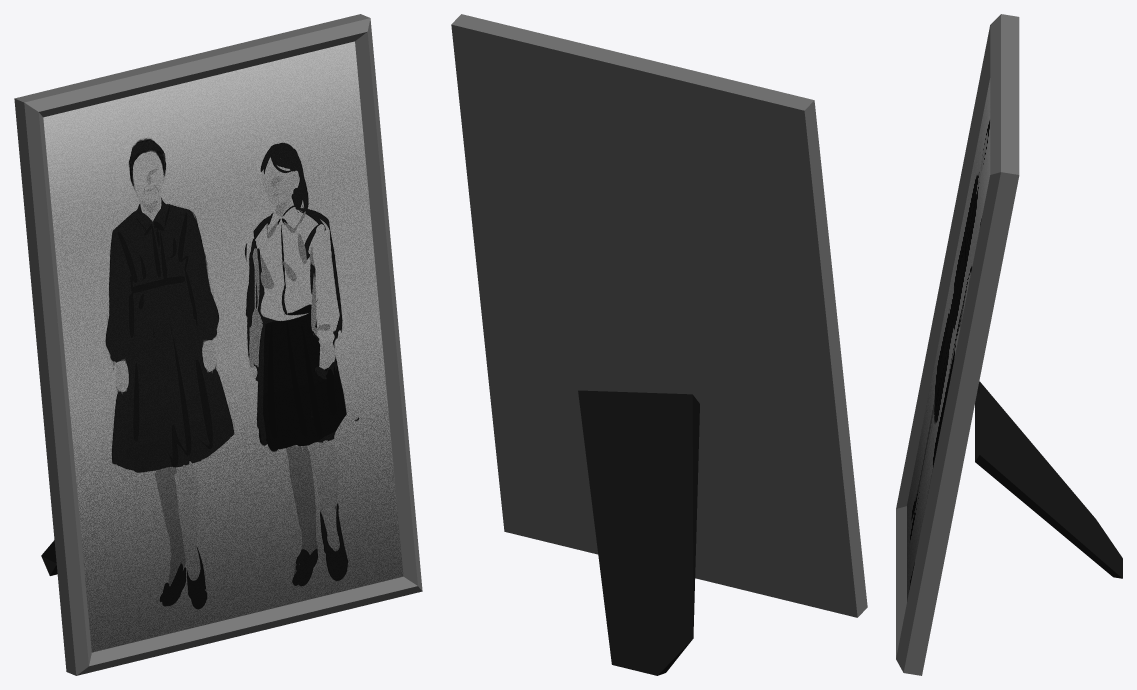
The model's file is PictureFlame.FBX.
3 renders of one model, left to right at view 1: azimuth 30°, elevation 25°; view 2: azimuth 150°, elevation 25°; view 3: azimuth 270°, elevation 25°, orthographic. The views are drawn at different scales.
Parts seen in each view (by area): view 1: Box003; view 2: Box003, オブジェクト001; view 3: Box003, オブジェクト001.
Boxes of the visible parts, box(x1,y1,x2,y2) form: Box003: box(14, 14, 422, 675); Box003: box(451, 14, 867, 617); オブジェクト001: box(578, 390, 699, 675); Box003: box(896, 14, 1019, 675); オブジェクト001: box(975, 381, 1122, 578).
Bounding box in the file's own units: 20 × 29.72 × 12.13.
2 materials, 1 textured.
